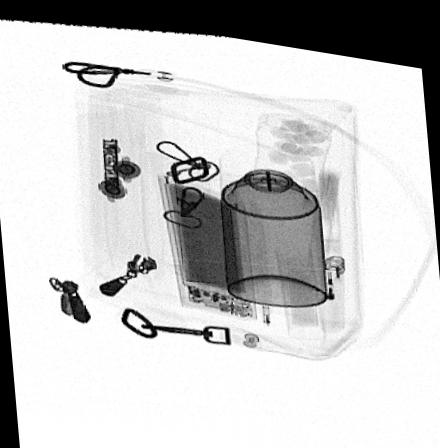Lighter: (319, 243, 344, 322)
Powerbank: (156, 167, 257, 312)
Sprayer: (218, 130, 328, 297)
